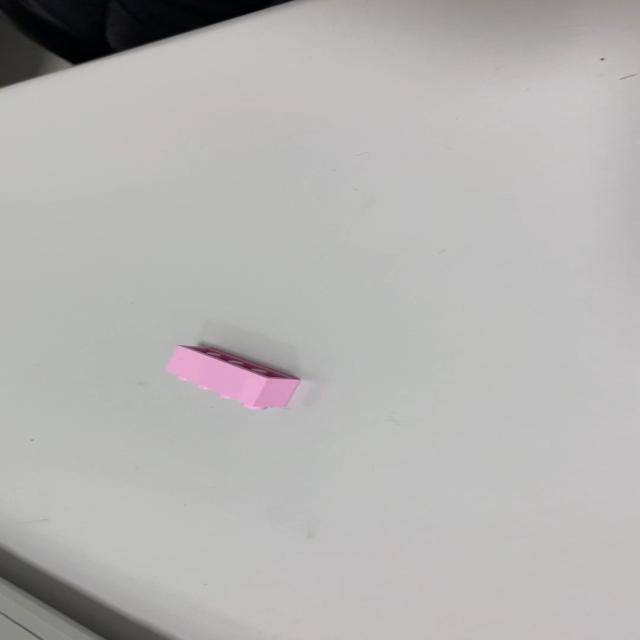C4x1x1: (163, 344, 301, 410)
